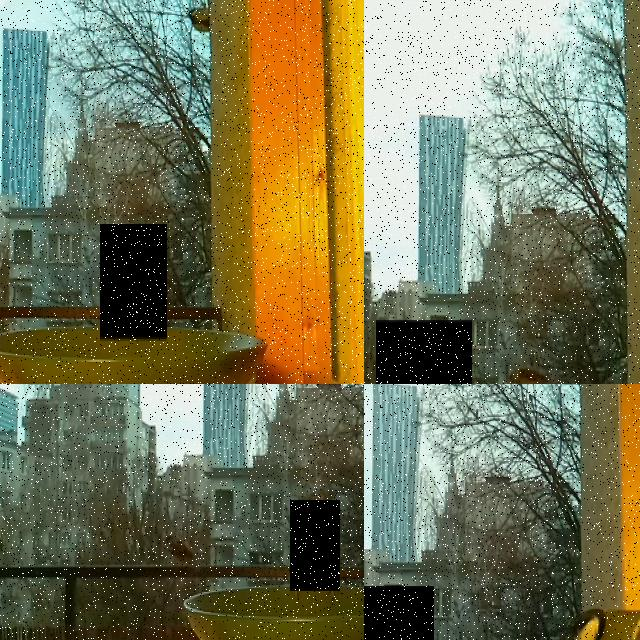Bogatka: (100, 224, 167, 340), (376, 320, 472, 384), (557, 585, 640, 640)
Wrobel: (290, 500, 340, 591), (364, 586, 434, 640)
